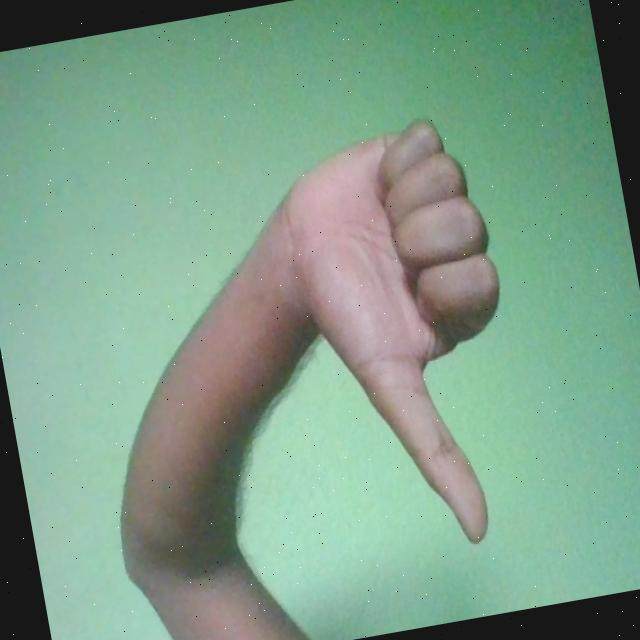Dislike: (266, 106, 544, 567)
